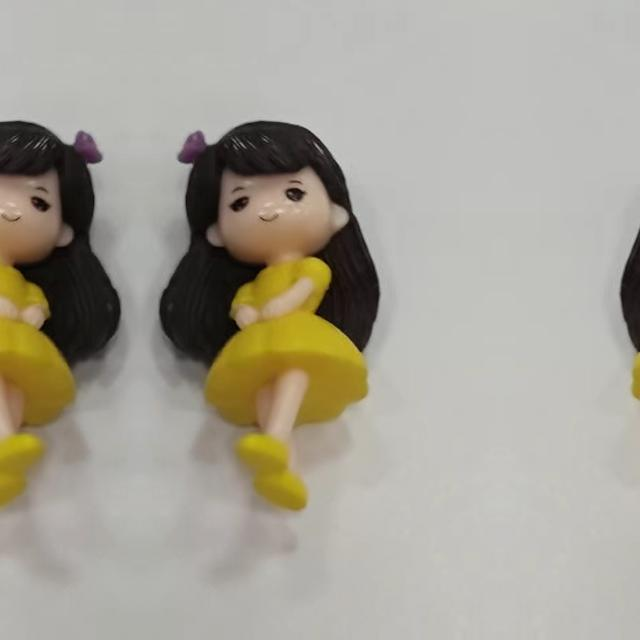woman dress: (195, 247, 349, 529), (0, 247, 85, 529)
woman head: (159, 107, 369, 263), (0, 107, 121, 263), (631, 107, 640, 263)
